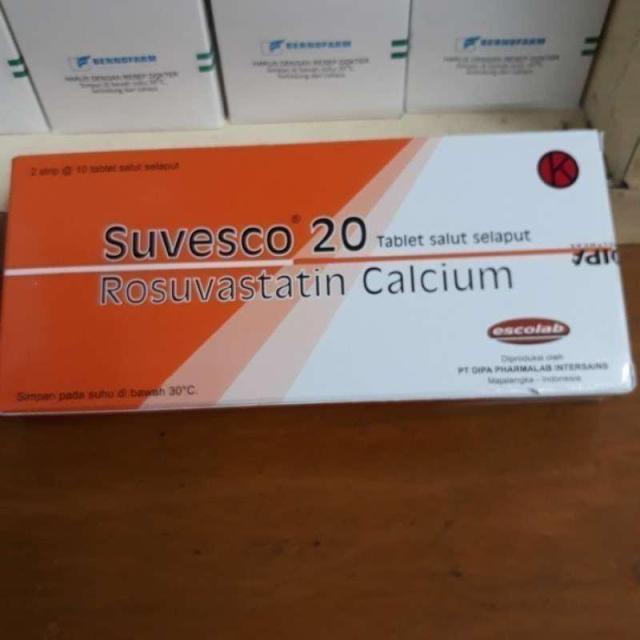drug-name: (100, 209, 368, 262)
